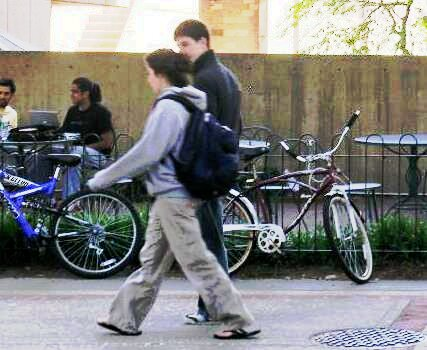person: (121, 46, 262, 325)
